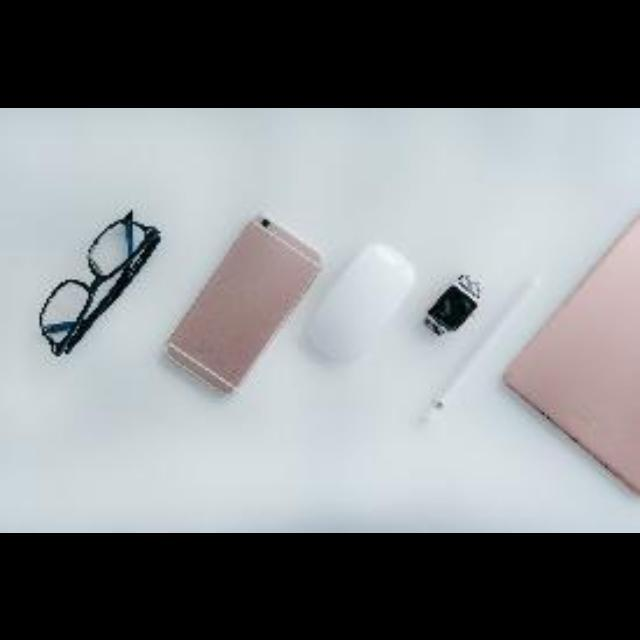Phone: (165, 214, 323, 396)
